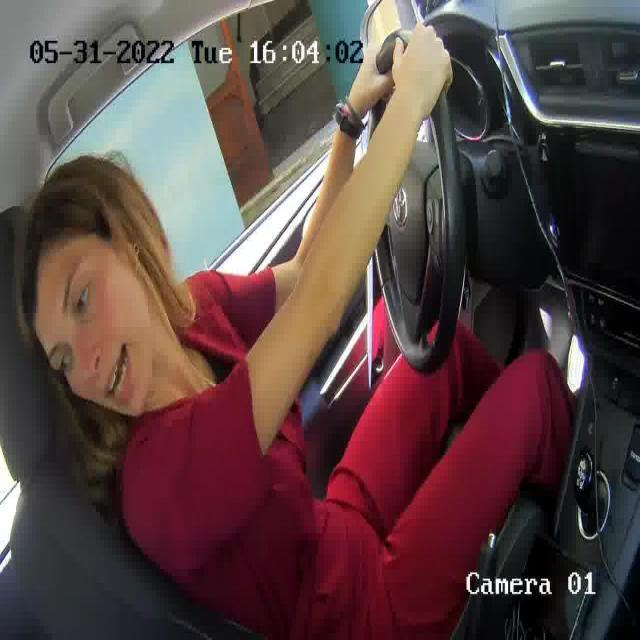Eye-Open: (70, 286, 97, 318), (53, 350, 75, 375)
Inattentive: (21, 155, 175, 419)
Normal: (101, 342, 138, 406)
